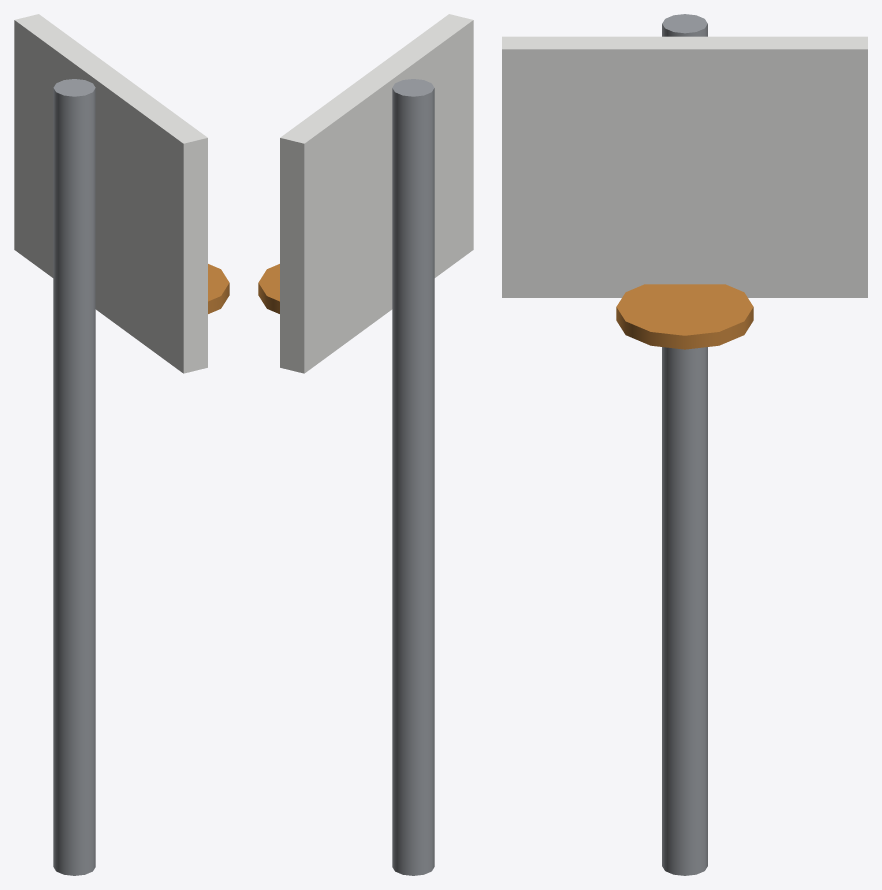
Rendered from basketball-half-court.glb.
3 renders of one model, left to right at view 1: azimuth 30°, elevation 25°; view 2: azimuth 150°, elevation 25°; view 3: azimuth 270°, elevation 25°, orthographic. The views are drawn at different scales.
Visible parts, largest first — view 1: basketball-half-court-2, basketball-half-court-1, basketball-half-court-3; view 2: basketball-half-court-2, basketball-half-court-1, basketball-half-court-3; view 3: basketball-half-court-2, basketball-half-court-1, basketball-half-court-3.
Part boxes in pixels (<box>): basketball-half-court-2: <box>14,14,207,373</box>; basketball-half-court-1: <box>53,79,95,875</box>; basketball-half-court-3: <box>208,264,229,313</box>; basketball-half-court-2: <box>280,14,473,373</box>; basketball-half-court-1: <box>392,79,434,875</box>; basketball-half-court-3: <box>258,264,279,313</box>; basketball-half-court-2: <box>502,36,867,297</box>; basketball-half-court-1: <box>662,14,707,875</box>; basketball-half-court-3: <box>616,284,753,349</box>.
Size of what is drawn, in the model's own units: 0.675 by 3.05 by 1.2.
